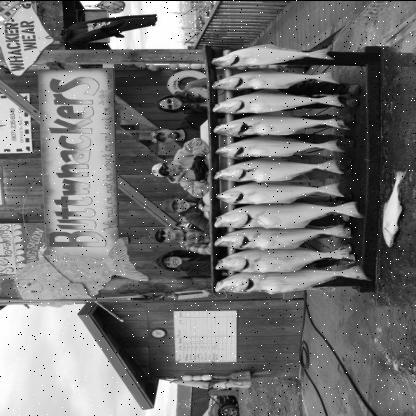fish: (215, 263, 371, 293), (212, 201, 364, 229), (211, 244, 351, 272), (212, 223, 349, 250), (213, 156, 346, 182), (212, 88, 344, 113), (212, 113, 350, 136), (213, 134, 344, 158), (210, 43, 334, 68), (214, 180, 342, 204), (210, 68, 339, 90), (378, 168, 408, 248)
